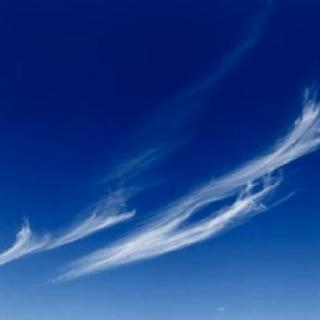Cirrostratus: (0, 66, 320, 294)
